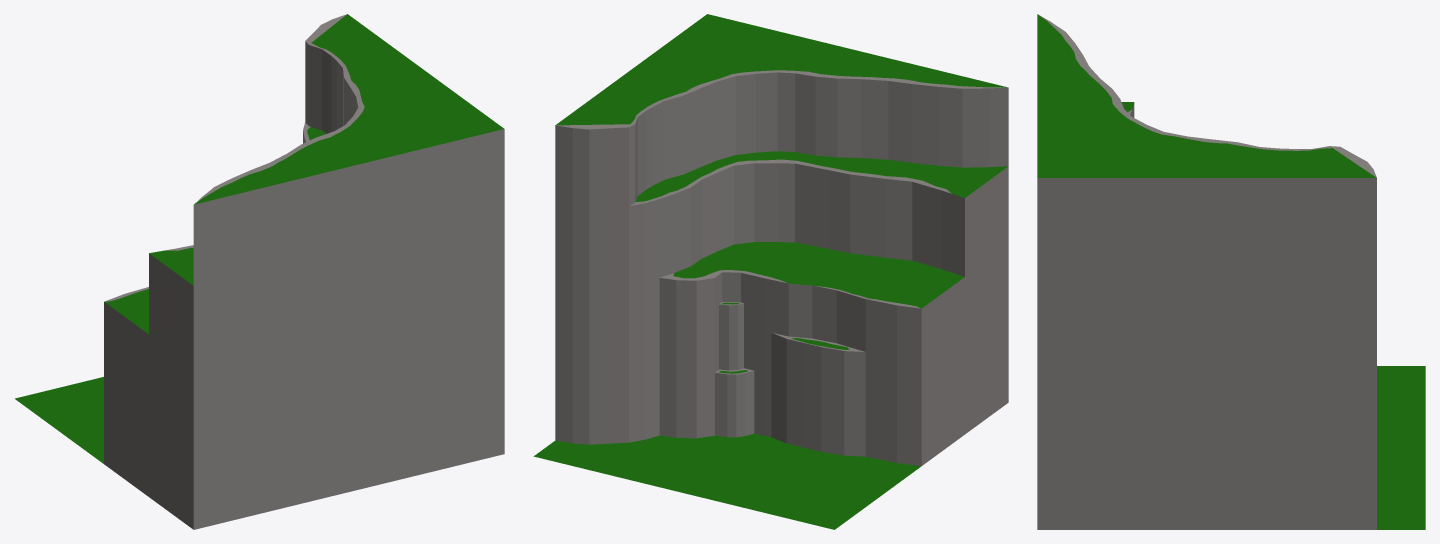
Rendered from StairToMountain.fbx.
The picture shows the model from 3 angles, left to right: view 1: azimuth 30°, elevation 25°; view 2: azimuth 150°, elevation 25°; view 3: azimuth 270°, elevation 25°; orthographic projection. The views are drawn at different scales.
Visible parts, largest first — view 1: Plane.002; view 2: Plane.002; view 3: Plane.002.
Part boxes in pixels (x1,y1,x2,y2): Plane.002: (15, 14, 504, 529); Plane.002: (533, 14, 1008, 529); Plane.002: (1037, 14, 1425, 529).
Bounding box in the file's own units: 100 × 100 × 100.
